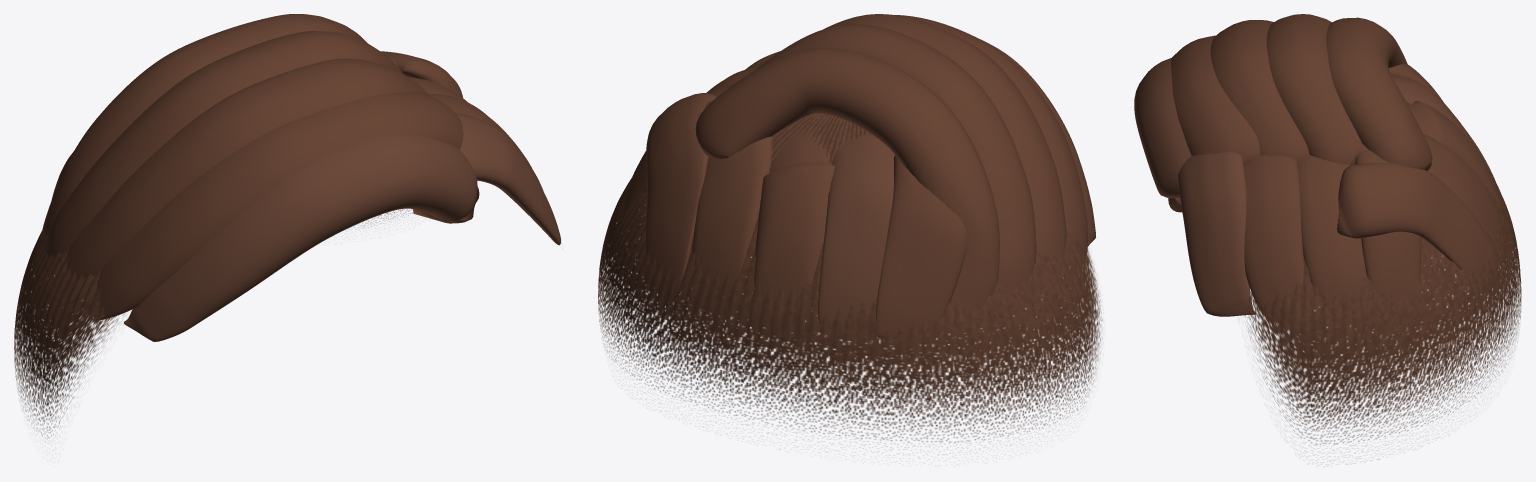
The model's file is Masculine-taper-ears256-hair.glb.
3 renders of one model, left to right at view 1: azimuth 30°, elevation 25°; view 2: azimuth 150°, elevation 25°; view 3: azimuth 270°, elevation 25°, orthographic. The views are drawn at different scales.
Visible parts, largest first — view 1: 226 hair / Hair252 / sculpted locks, 226 hair / Hair252 / gentle tonal variation, 226 hair / Hair256 / selected B sides; view 2: 226 hair / Hair252 / sculpted locks, 226 hair / Hair256 / selected B sides, 226 hair / Hair252 / gentle tonal variation; view 3: 226 hair / Hair252 / sculpted locks, 226 hair / Hair256 / selected B sides, 226 hair / Hair252 / gentle tonal variation.
Part boxes in pixels (x1,y1,x2,y2): 226 hair / Hair252 / sculpted locks: [40, 14, 543, 320]; 226 hair / Hair252 / gentle tonal variation: [123, 113, 560, 341]; 226 hair / Hair256 / selected B sides: [14, 209, 561, 438]; 226 hair / Hair252 / sculpted locks: [621, 14, 1087, 341]; 226 hair / Hair256 / selected B sides: [598, 113, 1102, 448]; 226 hair / Hair252 / gentle tonal variation: [745, 40, 1095, 339]; 226 hair / Hair252 / sculpted locks: [1171, 14, 1506, 322]; 226 hair / Hair256 / selected B sides: [1244, 102, 1521, 464]; 226 hair / Hair252 / gentle tonal variation: [1134, 58, 1495, 316].
Bounding box in the file's own units: 0.972 × 0.6944 × 0.7438.
3 materials, 1 textured.
